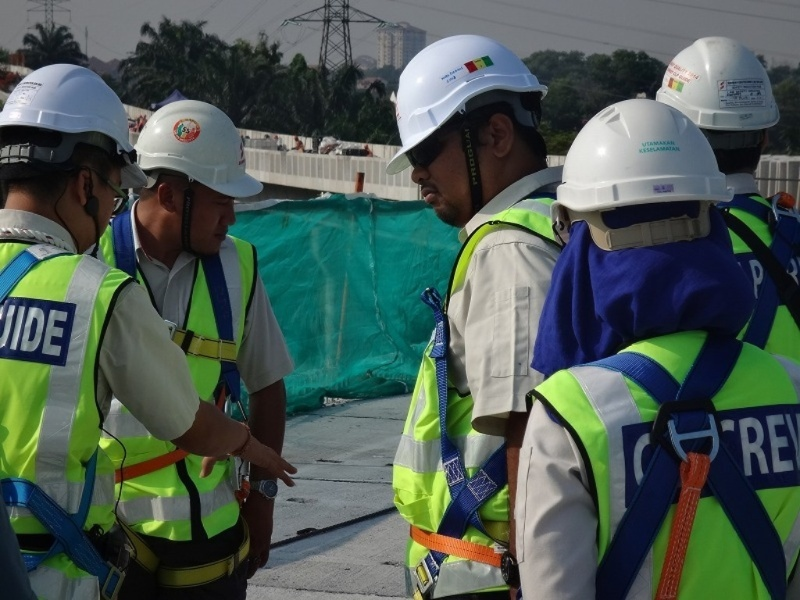Baret: (564, 97, 728, 201), (381, 32, 549, 109), (5, 59, 135, 148), (655, 35, 785, 124), (135, 93, 265, 182)
